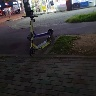gcooter: (19, 14, 56, 57)
